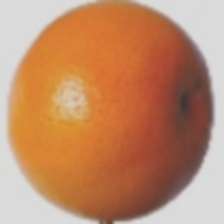grapes: (56, 13, 199, 189)
